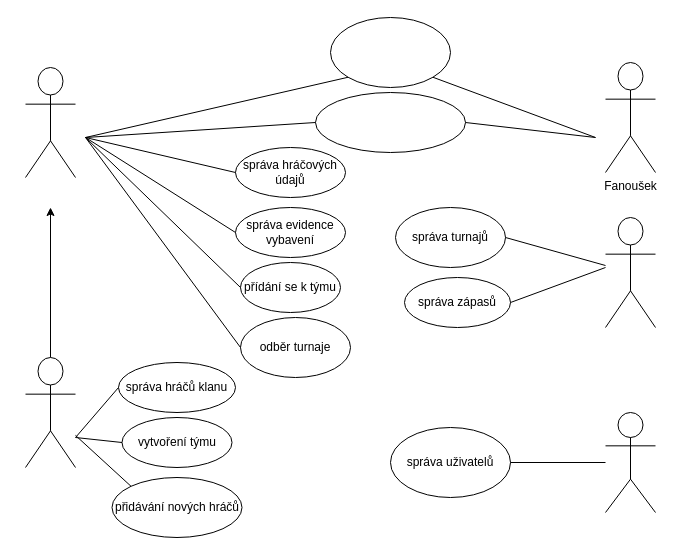
Some shapes in this 679 by 555 pixel diagram are drawn without their labels. Each missing label, with the centre of its shape:
Admin: the point at 630,462
Hráč: the point at 50,122
Organizátor: the point at 630,272
Vůdce klanu: the point at 50,412
zobrazení informací o hře: the point at 390,122
zobrazení statistik: the point at 390,52
